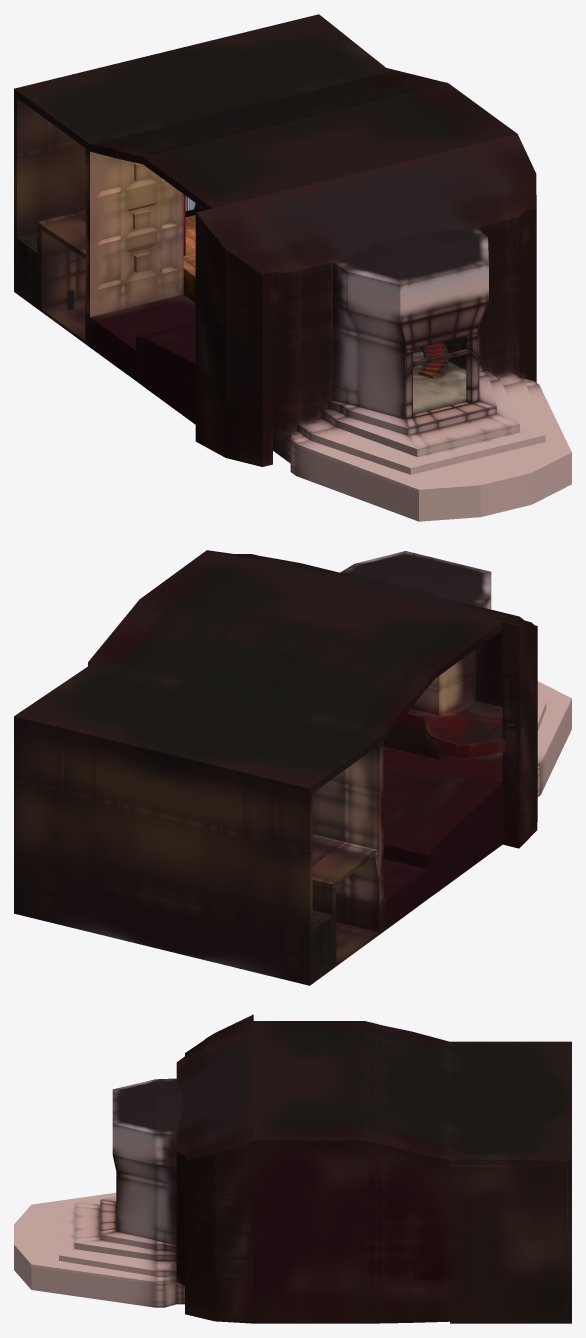
The model's file is Theater_Group.fbx.
3 renders of one model, top to bottom at view 1: azimuth 30°, elevation 25°; view 2: azimuth 150°, elevation 25°; view 3: azimuth 270°, elevation 25°, orthographic. The views are drawn at different scales.
Parts seen in each view (by area): view 1: Lobby_exterior, Stage_piece, Lobby_interior; view 2: Stage_piece, Lobby_exterior; view 3: Stage_piece, Lobby_exterior.
Part boxes in pixels (x1,y1,x2,y2): Lobby_exterior: [195, 134, 571, 521]; Stage_piece: [14, 14, 517, 424]; Lobby_interior: [413, 336, 466, 414]; Stage_piece: [14, 550, 502, 985]; Lobby_exterior: [208, 550, 571, 848]; Stage_piece: [253, 1021, 571, 1323]; Lobby_exterior: [14, 1014, 253, 1323].
Bounding box in the file's own units: 46.98 × 31.94 × 88.05.
